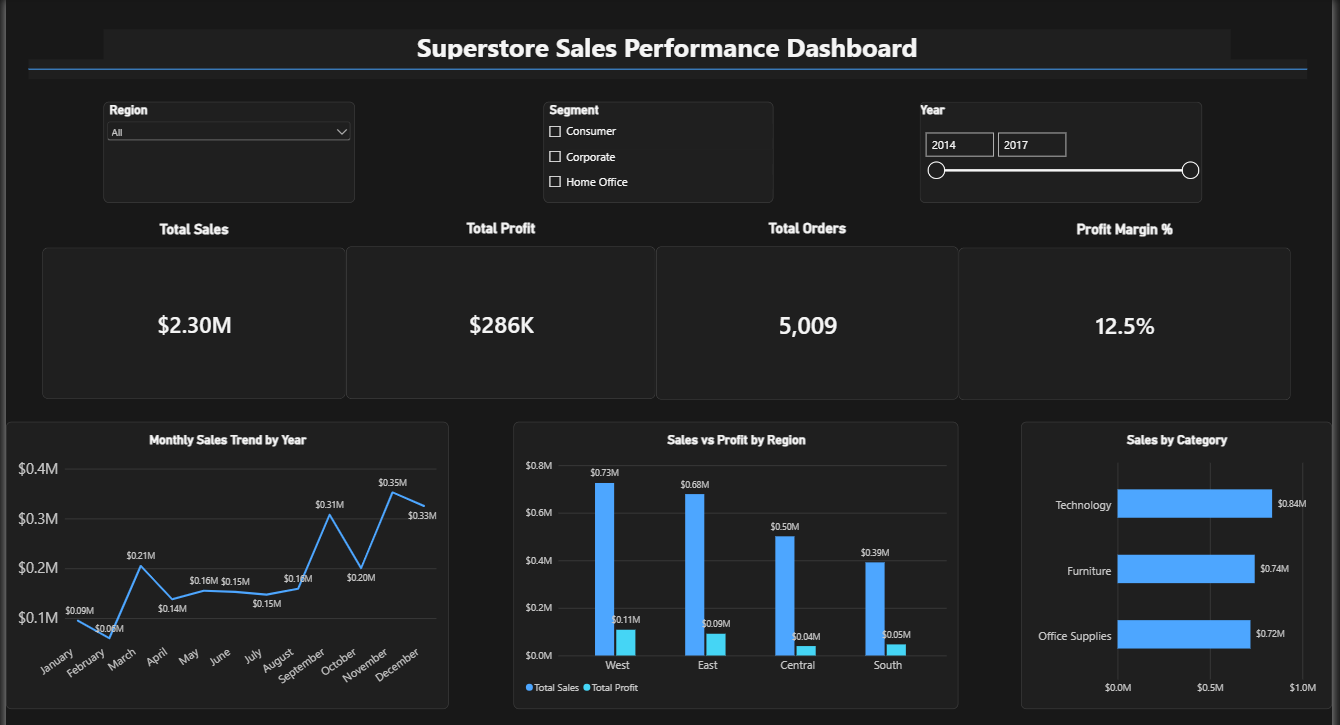

This screenshot's page, from the dashboard's own definition file:
{"tool":"powerbi","page":{"name":"Page 1","canvas":[1920,1080],"ordinal":0},"visuals":[{"type":"textbox","box":[141.2,45.2,1632.3,57.9],"z":0},{"type":"cardVisual","title":"Total Sales","fields":{"Data":["superstore_clean.Total Sales"]},"box":[52.5,322.1,439.7,258.8],"z":0,"group":"g1"},{"type":"lineChart","title":"Monthly Sales Trend by Year","fields":{"Category":["superstore_clean.MonthName"],"Y":["superstore_clean.Total Sales"]},"box":[0,613.5,640.6,416.2],"z":0,"group":"g2"},{"type":"slicer","title":"Year","fields":{"Values":["superstore_clean.Year"]},"box":[1322.9,150.2,409,146.6],"z":1000},{"type":"cardVisual","title":"Total Profit","fields":{"Data":["superstore_clean.Total Profit"]},"box":[492.2,320.3,448.8,260.6],"z":1000,"group":"g1"},{"type":"clusteredColumnChart","title":"Sales vs Profit by Region","fields":{"Category":["superstore_clean.Region"],"Y":["superstore_clean.Total Sales","superstore_clean.Total Profit"]},"box":[734.7,613.5,644.2,416.2],"z":1000,"group":"g2"},{"type":"slicer","fields":{"Values":["superstore_clean.Segment"]},"box":[778.2,150.2,333,146.6],"z":2000},{"type":"cardVisual","title":"Total Orders","fields":{"Data":["superstore_clean.Total Orders"]},"box":[941,320.3,438.4,261.4],"z":2000,"group":"g1"},{"type":"barChart","title":"Sales by Category","fields":{"Category":["superstore_clean.Category"],"Y":["superstore_clean.Total Sales"]},"box":[1469.4,613.5,450.6,416.2],"z":2000,"group":"g2"},{"type":"slicer","fields":{"Values":["superstore_clean.Region"]},"box":[141.2,150.2,363.7,146.6],"z":3000},{"type":"cardVisual","title":"Profit Margin %","fields":{"Data":["superstore_clean.Profit Margin %"]},"box":[1379,322.1,481.4,260.6],"z":3000,"group":"g1"},{"type":"group","id":"g1","title":"Group 1","box":[52.5,320.3,1807.9,262.4],"z":4000},{"type":"group","id":"g2","title":"Group 2","box":[0,613.5,1920.1,416.2],"z":5000},{"type":"shape","box":[32.6,88.7,1851.3,29],"z":6000}]}

Visuals, with their boxes on the page's 1920x1080 design canvas (x1, y1, x2, y2). These are canvas units, not pixel positions in the 1340x725 screenshot, which may show the page scaled, cropped or inside an application window:
textbox: 141, 45, 1774, 103
"Total Sales" cardVisual: 52, 322, 492, 581
"Monthly Sales Trend by Year" lineChart: 0, 614, 641, 1030
"Year" slicer: 1323, 150, 1732, 297
"Total Profit" cardVisual: 492, 320, 941, 581
"Sales vs Profit by Region" clusteredColumnChart: 735, 614, 1379, 1030
slicer - superstore_clean.Segment: 778, 150, 1111, 297
"Total Orders" cardVisual: 941, 320, 1379, 582
"Sales by Category" barChart: 1469, 614, 1920, 1030
slicer - superstore_clean.Region: 141, 150, 505, 297
"Profit Margin %" cardVisual: 1379, 322, 1860, 583
"Group 1" group: 52, 320, 1860, 583
"Group 2" group: 0, 614, 1920, 1030
shape: 33, 89, 1884, 118
